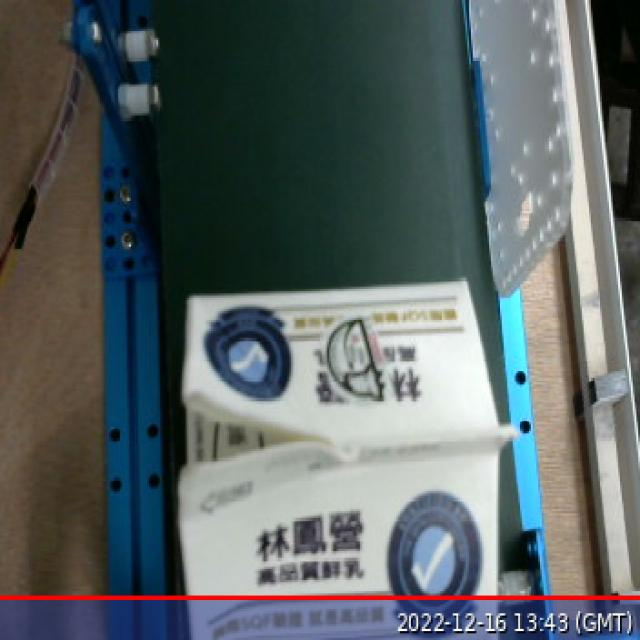non_white_jug: (172, 270, 528, 640)
